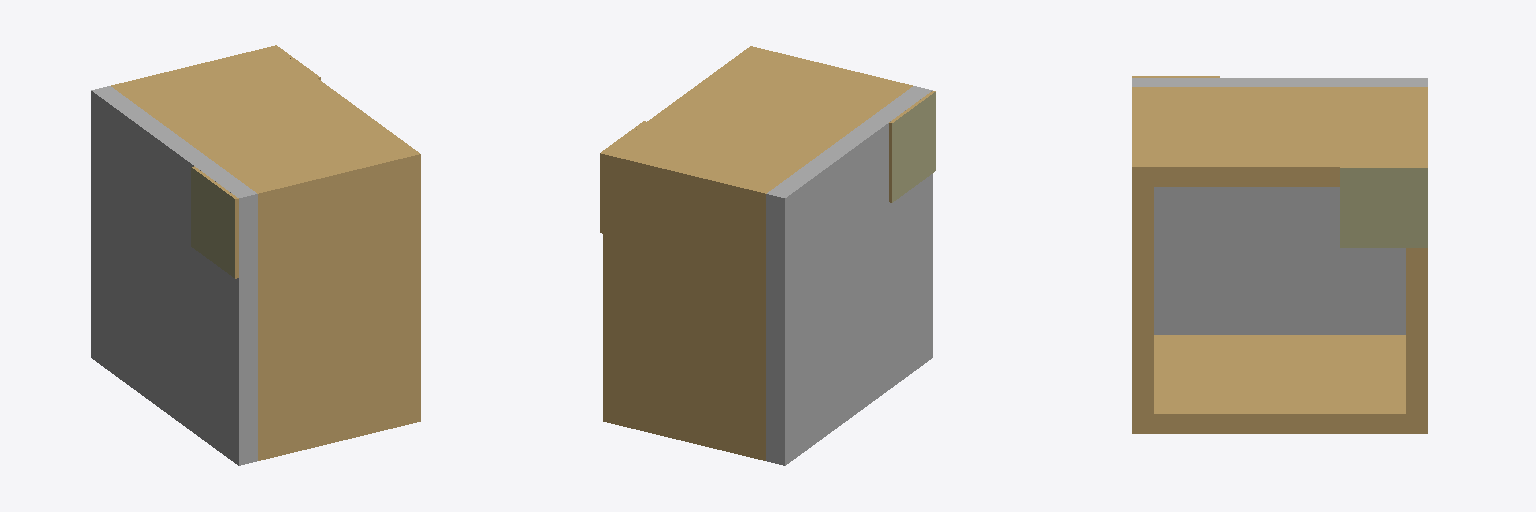
Rendered from dt_box_plexi.obj.
3 views of the same model, side by side, from view 1: azimuth 30°, elevation 25°; view 2: azimuth 150°, elevation 25°; view 3: azimuth 270°, elevation 25° (orthographic).
Parts seen in each view (by area): view 1: case11.012_Cube.065; view 2: case11.012_Cube.065; view 3: case11.012_Cube.065.
Boxes of the visible parts, x1=… form: case11.012_Cube.065: x1=91, y1=45, x2=420, y2=465; case11.012_Cube.065: x1=600, y1=46, x2=935, y2=465; case11.012_Cube.065: x1=1132, y1=76, x2=1427, y2=433.
Size of the model in its own units: 0.1736 by 0.235 by 0.235.